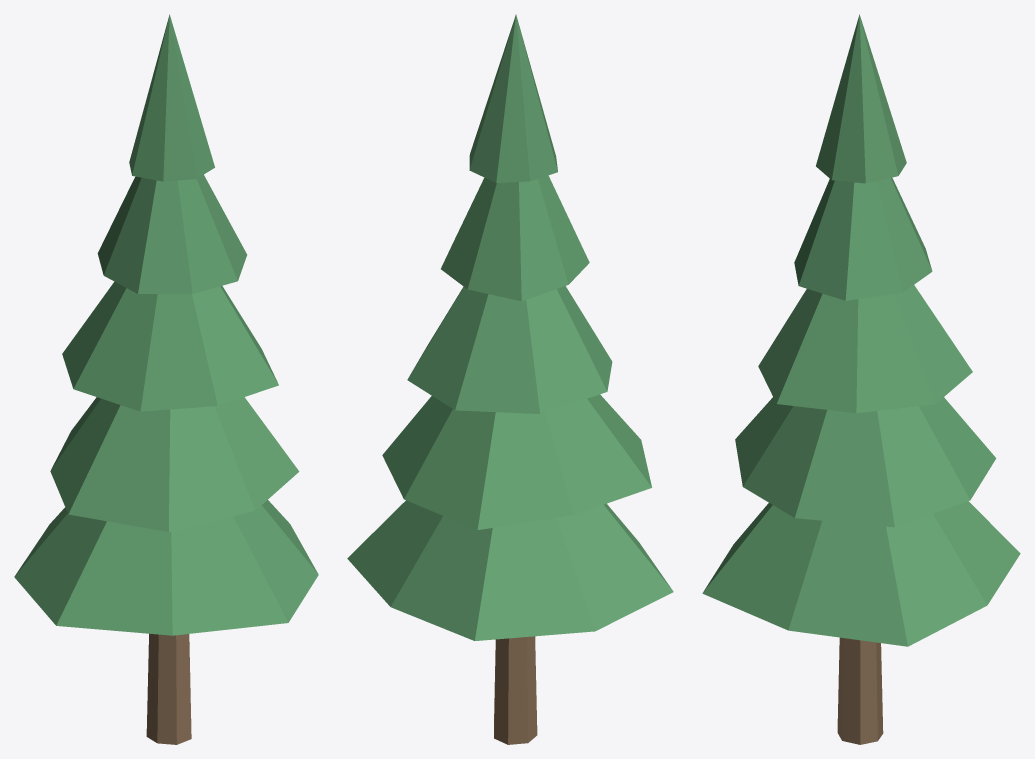
Rendered from Tree_Pine_B.fbx.
The picture shows the model from 3 angles, left to right: view 1: azimuth 30°, elevation 25°; view 2: azimuth 150°, elevation 25°; view 3: azimuth 270°, elevation 25°; orthographic projection.
Visible parts, largest first — view 1: Tree_Pine_B; view 2: Tree_Pine_B; view 3: Tree_Pine_B.
Boxes of the visible parts, left/top/right/bottom form: Tree_Pine_B: left=14, top=14, right=318, bottom=744; Tree_Pine_B: left=347, top=14, right=673, bottom=744; Tree_Pine_B: left=702, top=14, right=1020, bottom=744.
Size of the model in its own units: 5.23 by 12.87 by 5.15.
